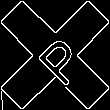P_NW: (24, 24, 86, 86)
